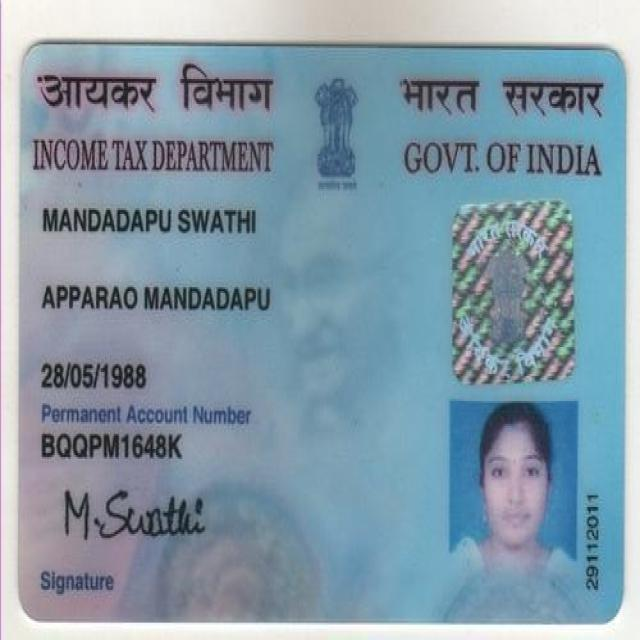pan_card: (18, 43, 628, 621)
